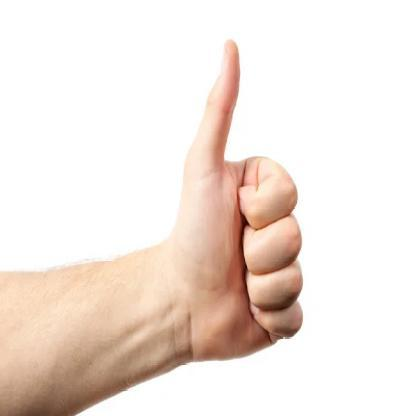thumb_up: (174, 35, 306, 364)
